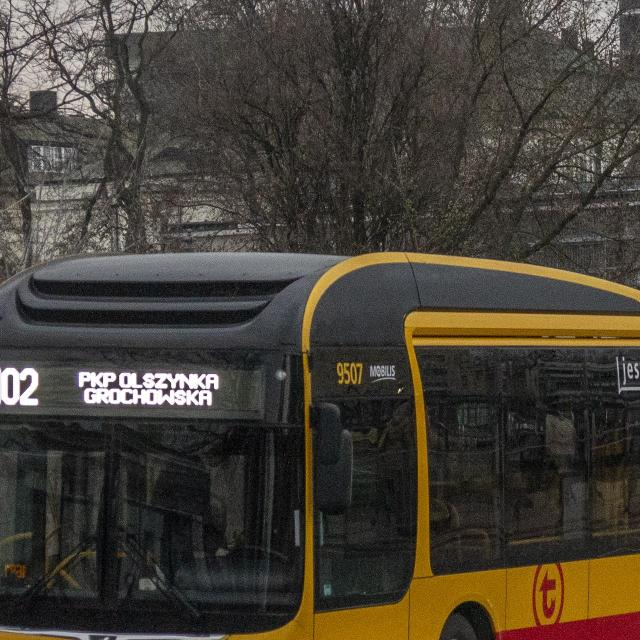Bus: (1, 252, 640, 640)
